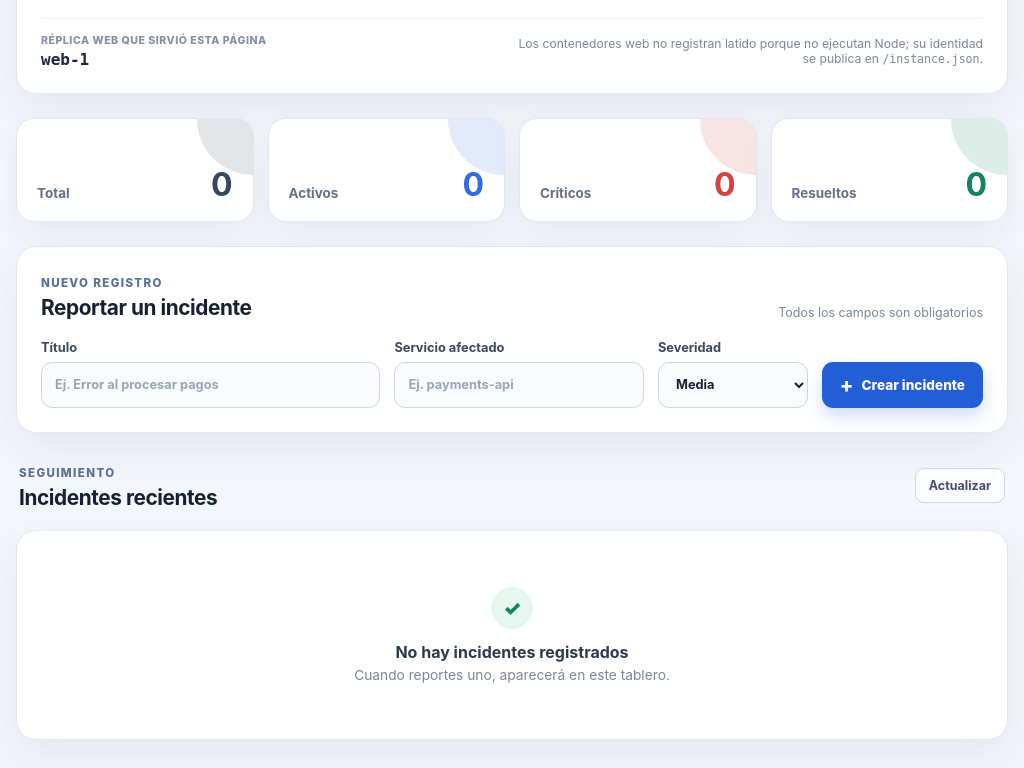
it: OpsBoard › creates an incident and renders the API response
(page scrolled)
Expected: the text "No hay incidentes registrados" is shown, left=395, top=642, right=629, bottom=662
Type "  Latencia elevada  " into the field labelled "Título". click: (211,385)
box: left=41, top=362, right=380, bottom=408
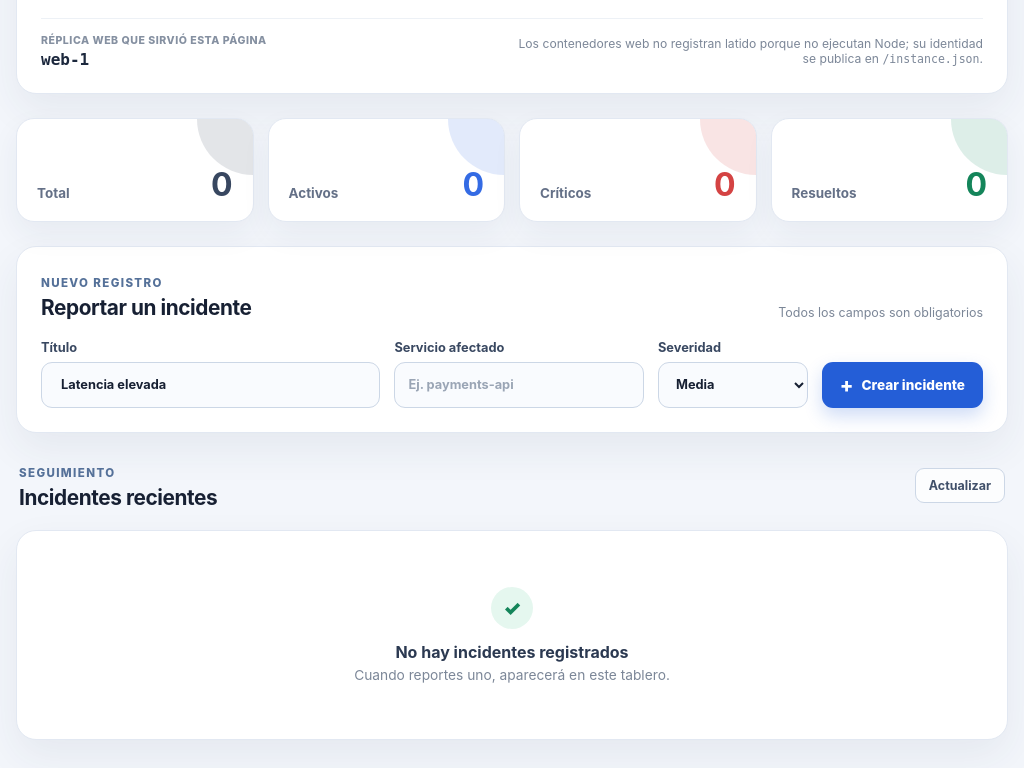
Type " gateway " into the field labelled "Servicio afectado". click: (519,385)
box: left=394, top=362, right=644, bottom=408
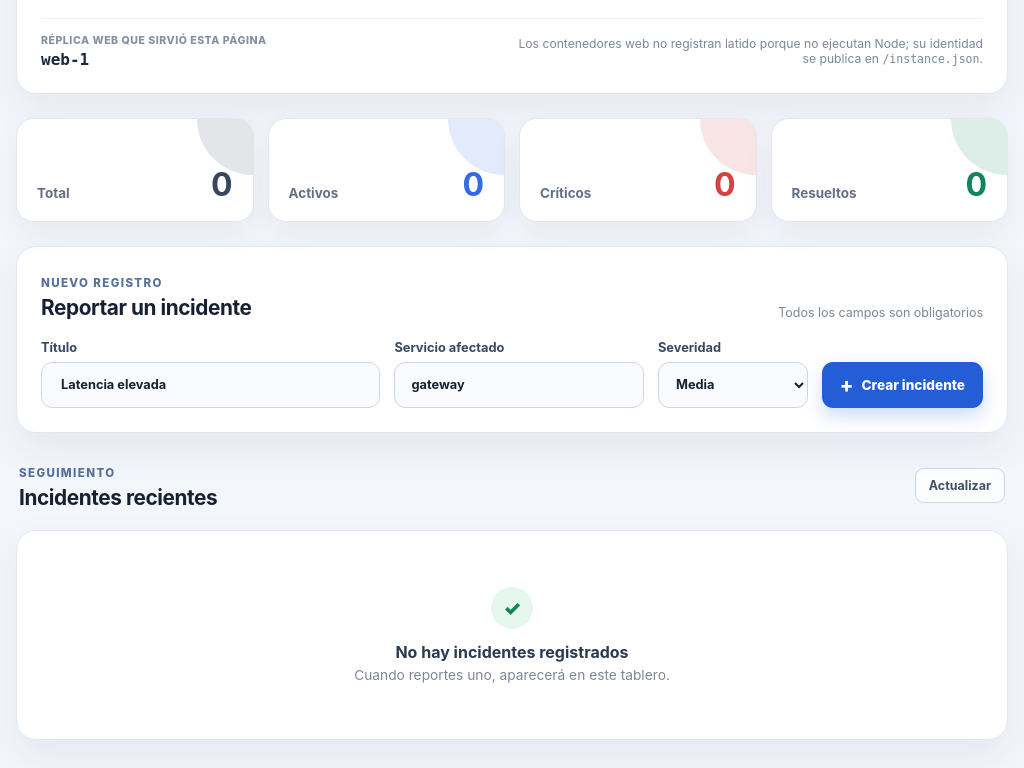
Select "Crítica" in the dropdown labelled "Severidad". click: (733,385)
box: left=658, top=362, right=808, bottom=408
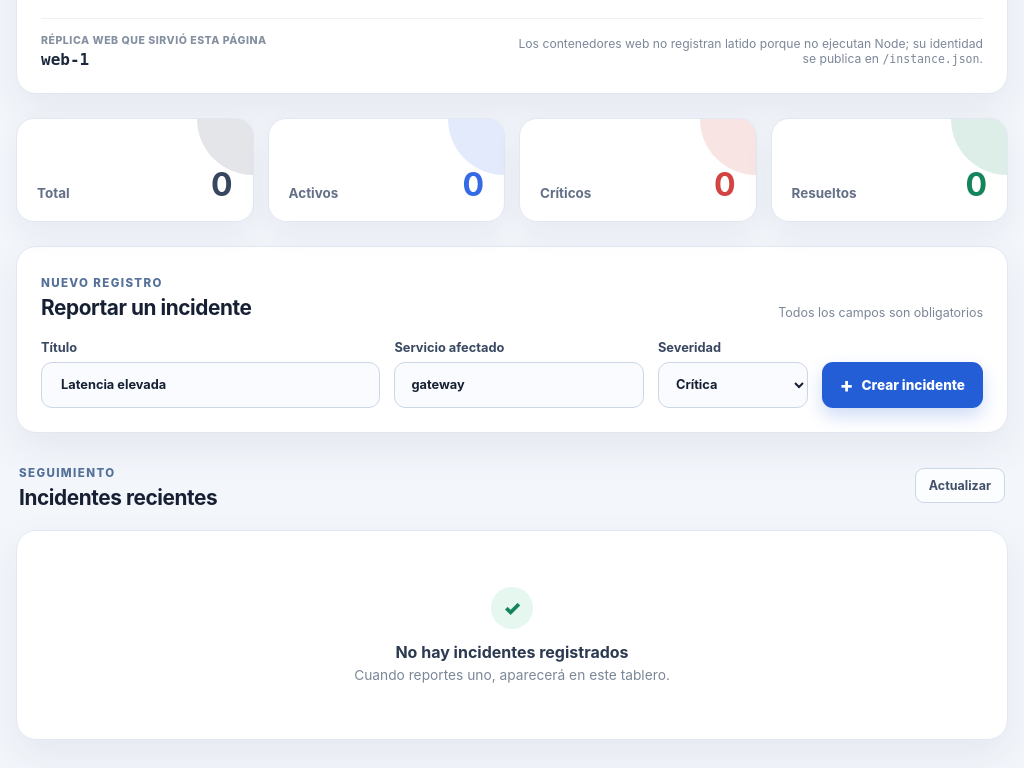
Click the button "+ Crear incidente". click: (902,385)
box: left=822, top=362, right=983, bottom=408
(page scrolled)
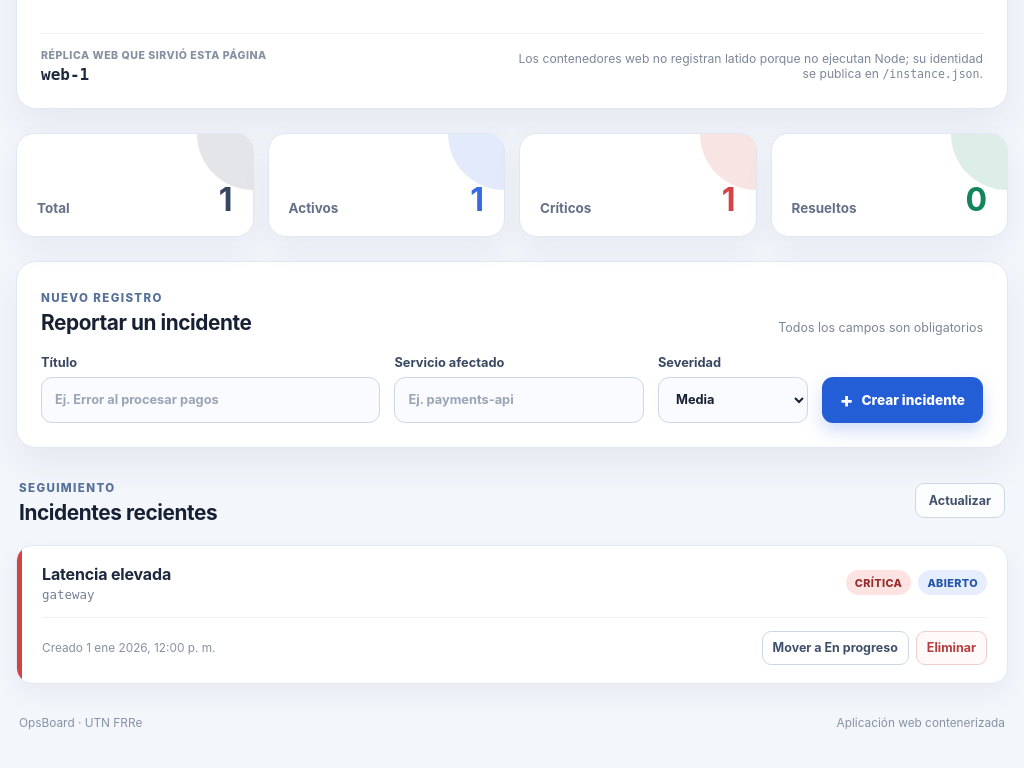
Result: the heading "Latencia elevada" is shown at left=42, top=564, right=171, bottom=584
